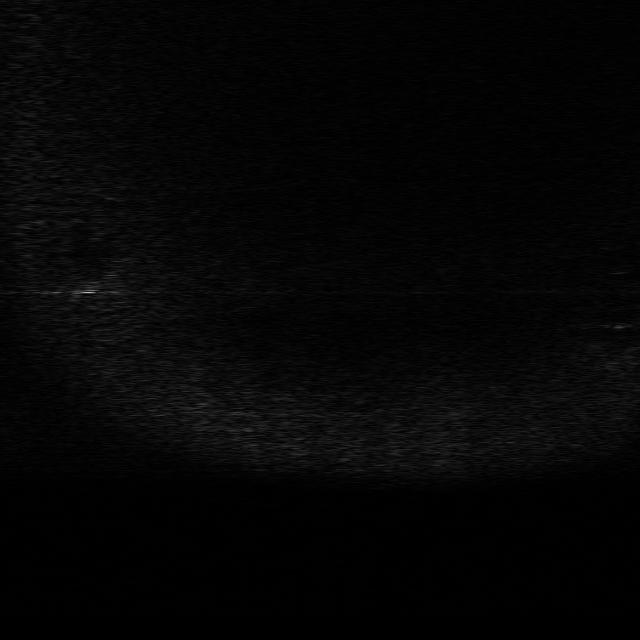plane: (49, 270, 116, 304)
